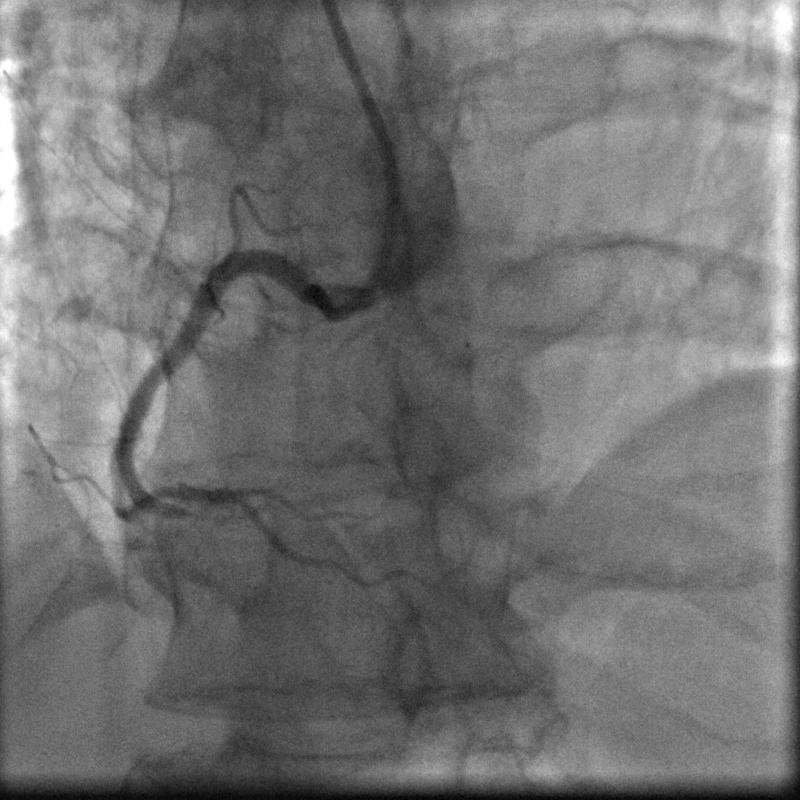Stenosis: (160, 489, 221, 525)
